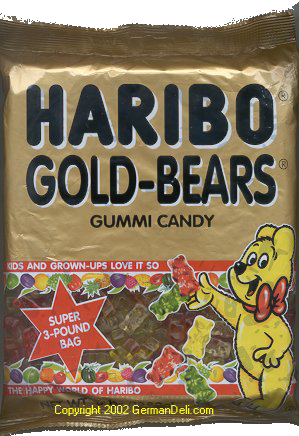grozi_66: (0, 3, 299, 435)
